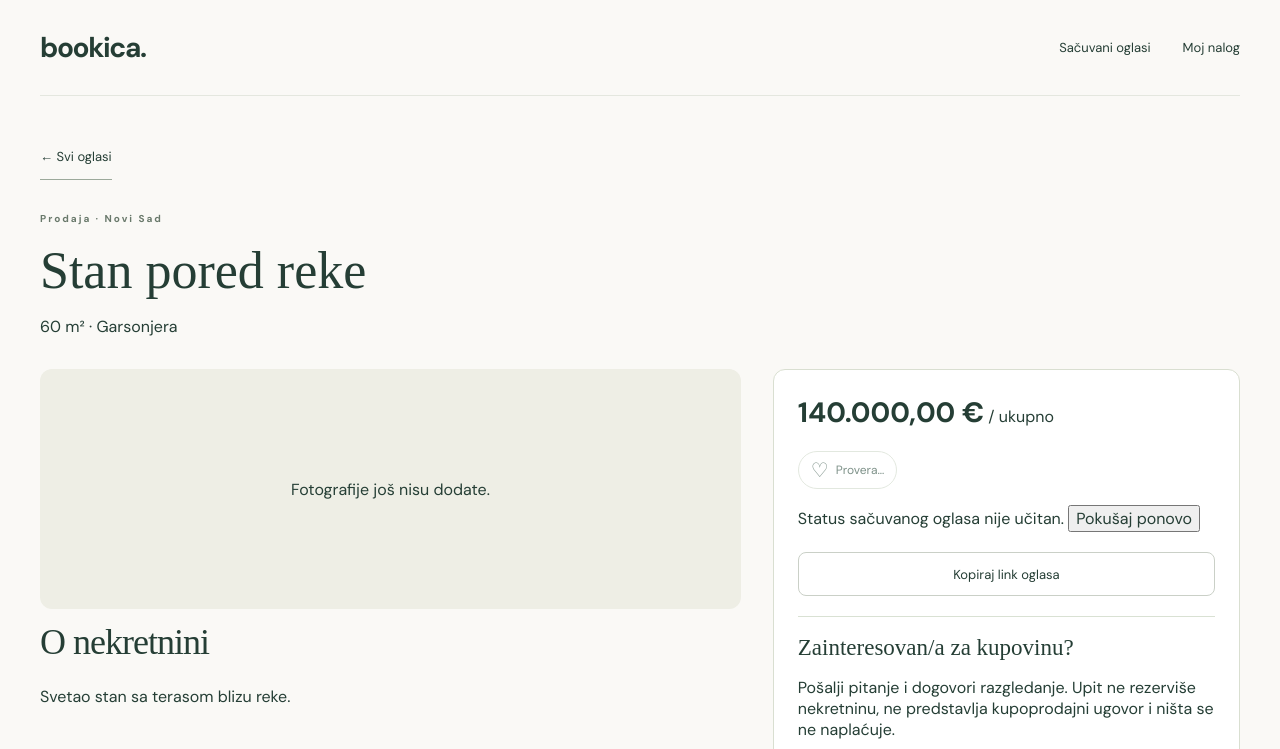
keeps listing visible after saved-status failure and retries
Check: the message shows "Status sačuvanog oglasa nije učitan", box [798,508,1068,529]
Check: the heading "Stan pored reke" is shown, box [40,242,366,299]
Click the button "Pokušaj ponovo" at (1134, 518), box [1068,505,1200,532]
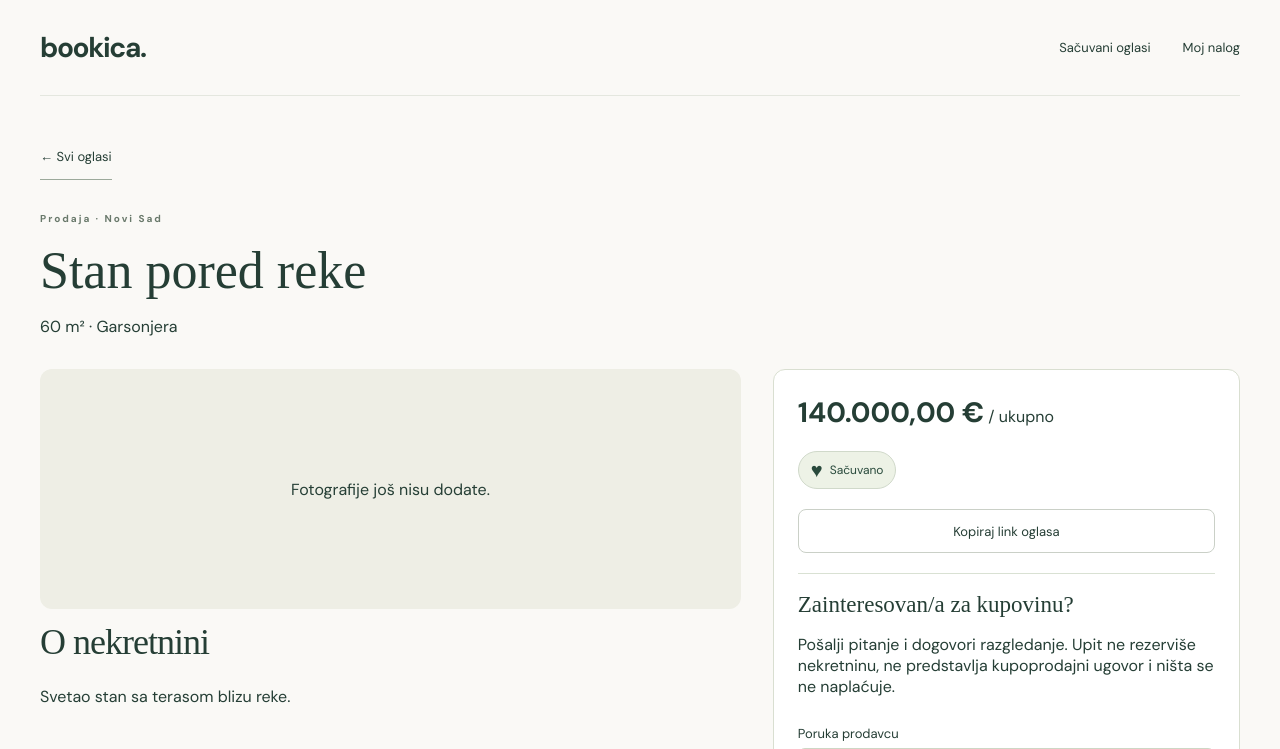
Check: the button with aria-label "Ukloni iz sačuvanih" is enabled, box [798,451,896,489]
